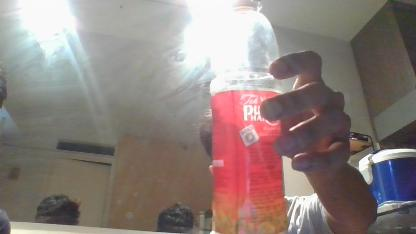Plastic Bottle: (208, 0, 284, 234)
